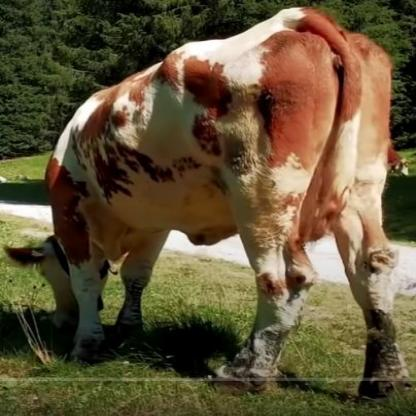cow: (6, 5, 397, 396)
